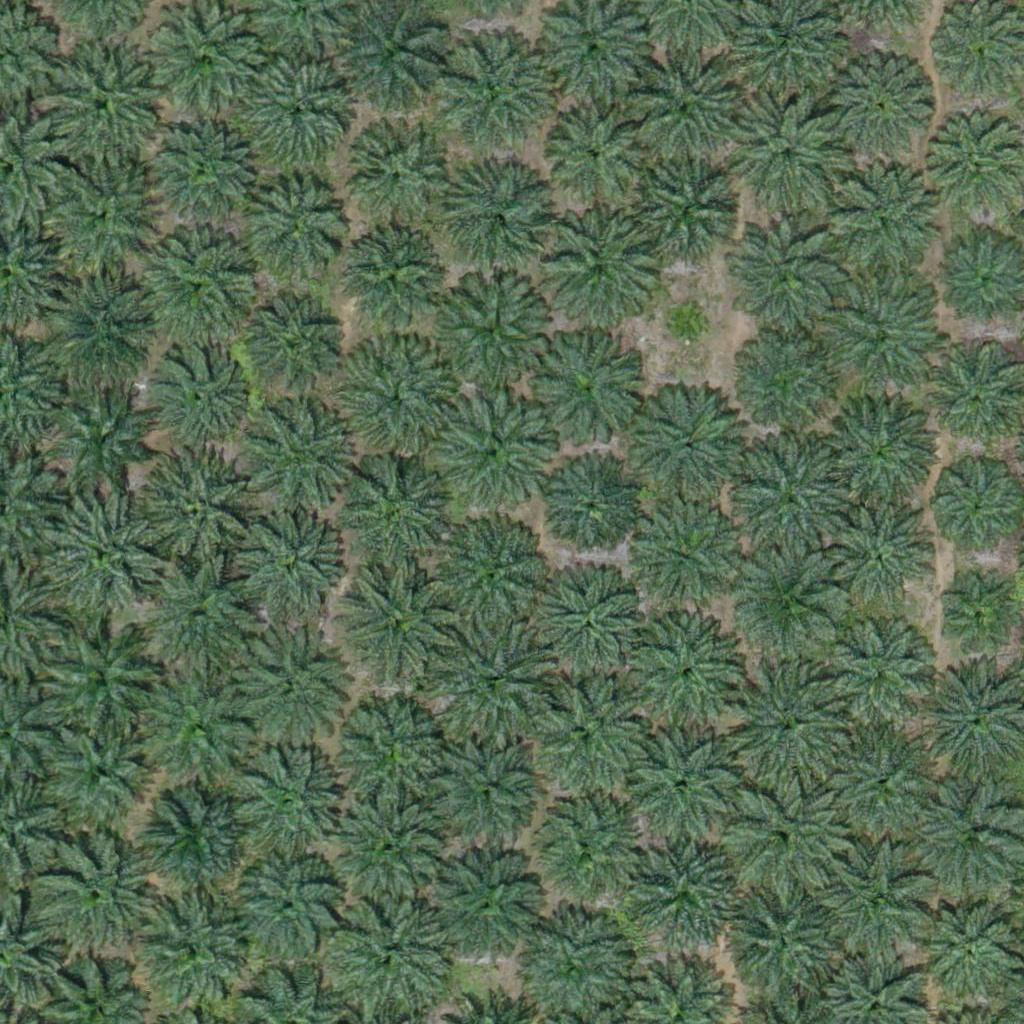Kelapa_Sawit: (432, 31, 557, 157), (730, 440, 855, 566), (623, 50, 748, 176), (429, 514, 554, 640), (336, 333, 461, 459), (335, 455, 460, 581), (335, 567, 460, 693), (142, 109, 267, 235), (130, 446, 255, 572), (138, 557, 263, 683), (34, 492, 159, 618), (38, 262, 163, 388), (34, 155, 159, 281), (41, 47, 166, 173), (36, 609, 161, 735), (40, 708, 165, 834), (36, 829, 161, 955), (128, 664, 253, 790), (222, 746, 347, 872), (225, 623, 350, 749), (332, 786, 457, 912), (331, 894, 456, 1020), (513, 676, 638, 802), (723, 661, 848, 787), (719, 776, 844, 902), (427, 386, 552, 511), (429, 269, 554, 394), (236, 49, 361, 174), (332, 692, 457, 817), (518, 787, 643, 912), (140, 896, 253, 1010), (824, 727, 937, 841), (821, 620, 934, 734), (732, 548, 845, 661), (626, 502, 739, 615), (629, 384, 742, 497), (631, 162, 744, 275), (237, 177, 350, 290), (143, 784, 256, 897), (427, 850, 540, 963), (428, 736, 541, 849), (441, 621, 554, 734), (817, 848, 930, 961), (820, 53, 932, 167), (824, 159, 936, 273), (825, 277, 937, 391), (733, 98, 845, 212), (731, 223, 843, 337), (822, 392, 934, 505), (533, 325, 645, 438), (543, 571, 655, 684), (439, 164, 551, 277), (341, 119, 453, 232), (229, 507, 341, 620), (245, 401, 357, 514), (142, 236, 254, 349), (233, 854, 345, 967), (631, 833, 743, 946), (623, 730, 735, 843), (628, 620, 740, 733), (728, 890, 840, 1003), (831, 506, 931, 607), (736, 330, 836, 431), (543, 102, 643, 203), (550, 220, 650, 321), (543, 457, 643, 558), (341, 229, 441, 330), (245, 295, 345, 396), (150, 345, 250, 446), (52, 386, 152, 486), (917, 900, 1017, 1000), (934, 465, 1022, 553), (937, 580, 1012, 656), (662, 301, 712, 351)
